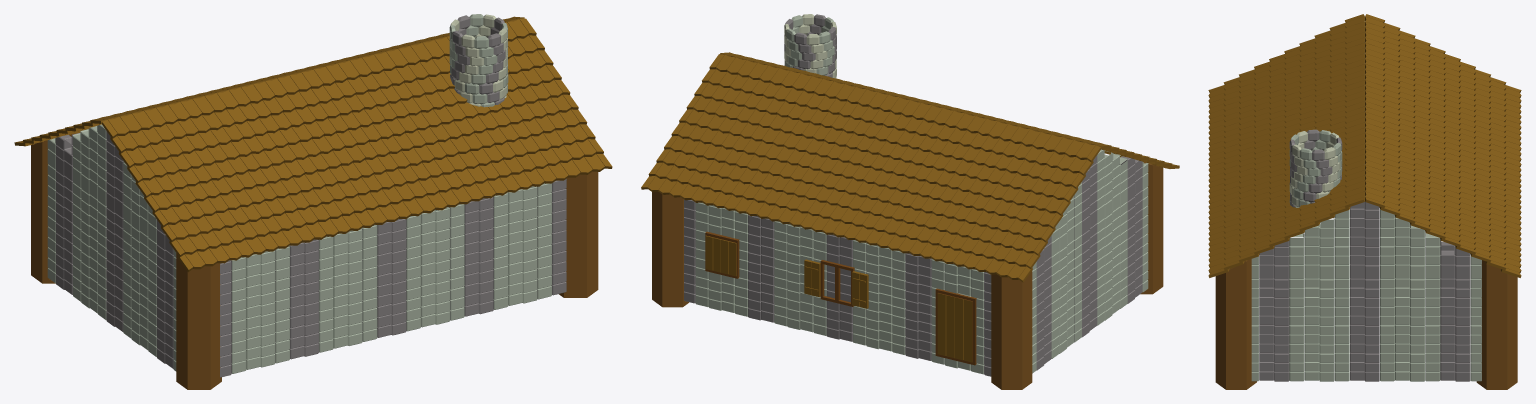
The model's file is Maison base 2.fbx.
3 renders of one model, left to right at view 1: azimuth 30°, elevation 25°; view 2: azimuth 150°, elevation 25°; view 3: azimuth 270°, elevation 25°, orthographic. The views are drawn at different scales.
Parts seen in each view (by area): view 1: Maison 2; view 2: Maison 2; view 3: Maison 2.
Boxes of the visible parts, left/top/right/bottom form: Maison 2: left=14, top=14, right=612, bottom=389; Maison 2: left=641, top=14, right=1179, bottom=389; Maison 2: left=1208, top=14, right=1521, bottom=389.
Size of the model in its own units: 4611 by 2539 by 3286.
